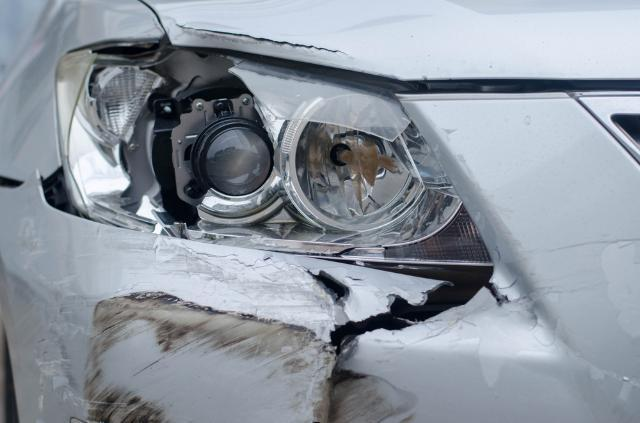crack: (330, 282, 521, 358), (308, 270, 349, 302)
lamp broken: (55, 48, 493, 264)
scratch: (17, 218, 427, 423)
